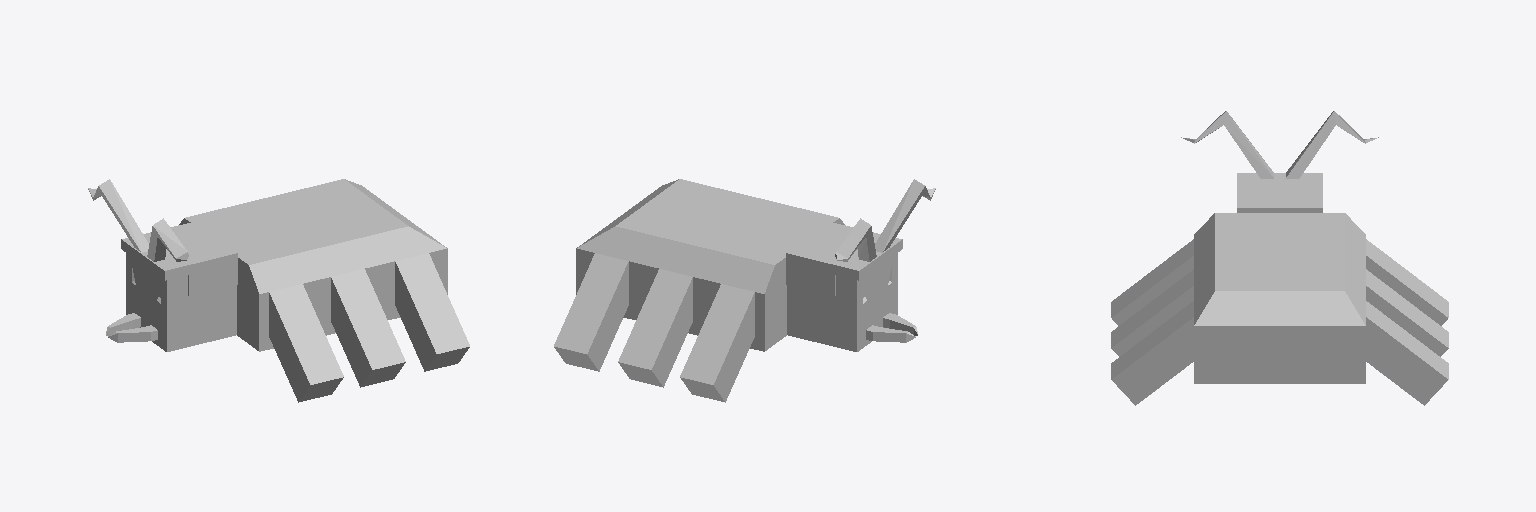
Rendered from beatle 5.obj.
3 views of the same model, side by side, from view 1: azimuth 30°, elevation 25°; view 2: azimuth 150°, elevation 25°; view 3: azimuth 270°, elevation 25° (orthographic).
Visible parts, largest first — view 1: Cube; view 2: Cube; view 3: Cube.
Boxes of the visible parts, x1=… form: Cube: x1=88, y1=179, x2=469, y2=402; Cube: x1=554, y1=179, x2=935, y2=402; Cube: x1=1111, y1=111, x2=1448, y2=405.
Bounding box in the file's own units: 3.01 × 1.67 × 2.96.